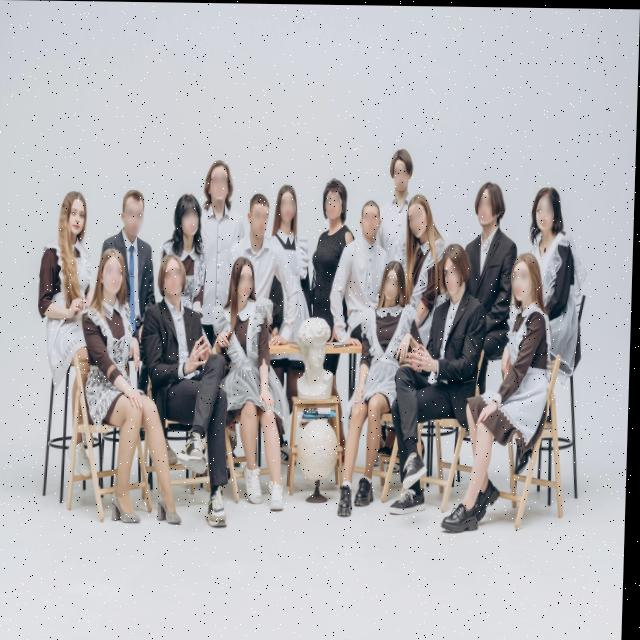Person: (84, 253, 189, 533), (471, 249, 562, 545), (148, 258, 246, 527), (211, 253, 309, 520), (408, 237, 485, 506), (343, 258, 415, 517), (34, 188, 112, 413), (526, 178, 597, 390), (458, 164, 528, 345), (340, 195, 396, 355), (114, 184, 166, 350), (194, 166, 247, 309), (309, 171, 360, 318), (170, 181, 211, 330), (269, 176, 310, 322), (379, 137, 420, 262), (236, 184, 280, 299), (402, 190, 444, 289)
